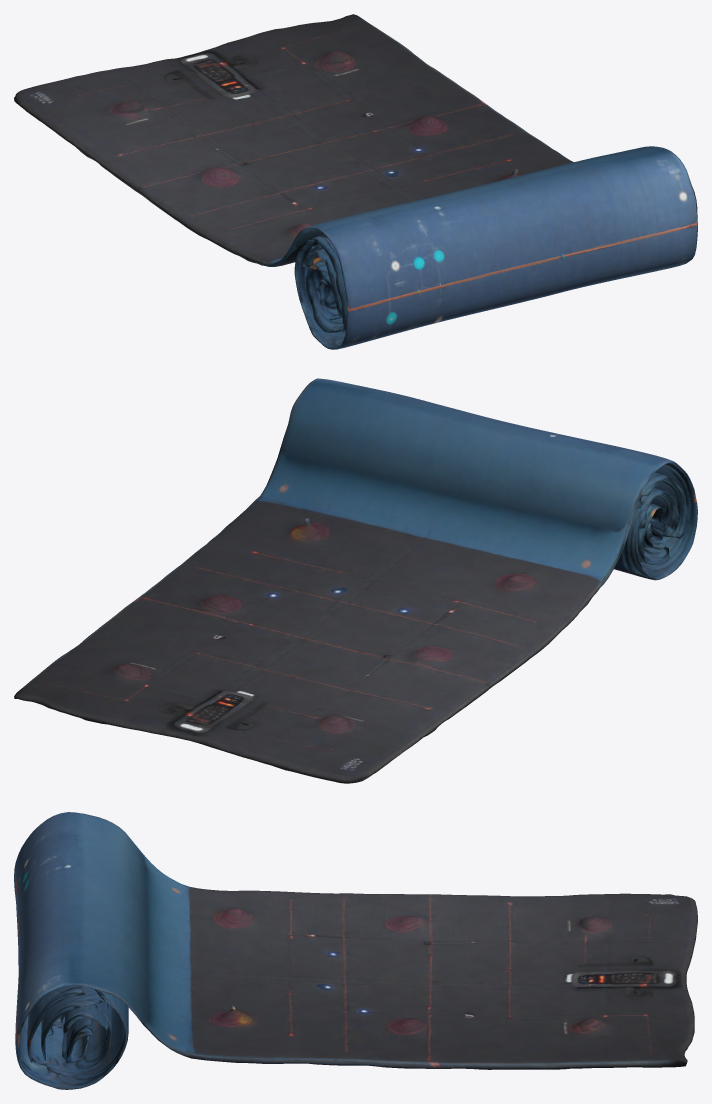
File: yogaMat.glb
3 renders of one model, top to bottom at view 1: azimuth 30°, elevation 25°; view 2: azimuth 150°, elevation 25°; view 3: azimuth 270°, elevation 25°, orthographic.
Size of the model in its own units: 1.21 by 0.3663 by 2.
1 material, 1 textured.
